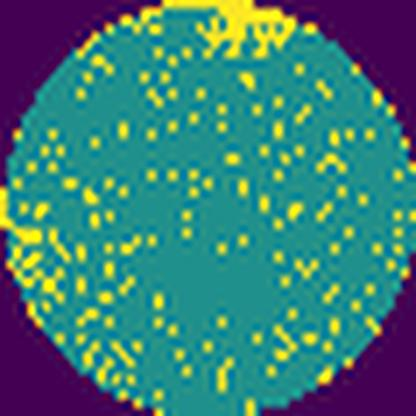Edge-Loc: (159, 0, 295, 57)
